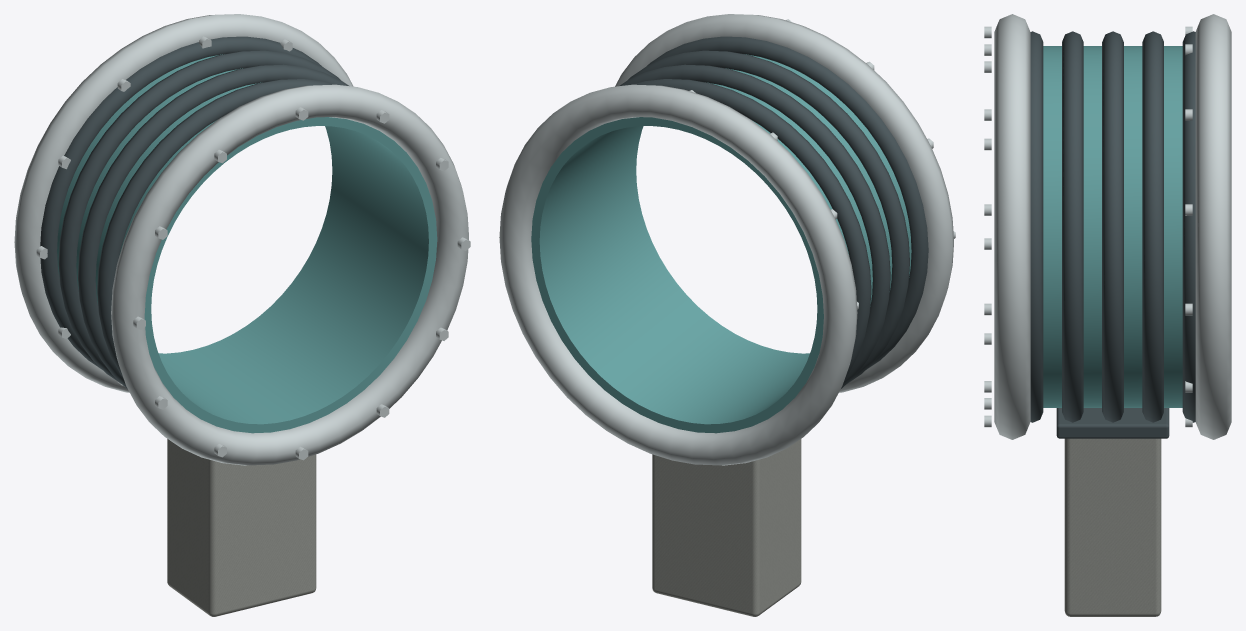
The model's file is hydroelectric-dam-infiltration-expansion-joint-af389c30__29343.glb.
3 views of the same model, side by side, from view 1: azimuth 30°, elevation 25°; view 2: azimuth 150°, elevation 25°; view 3: azimuth 270°, elevation 25° (orthographic). The views are drawn at different scales.
Parts seen in each view (by area): view 1: expansion-joint; view 2: expansion-joint; view 3: expansion-joint.
Boxes of the visible parts, <box> form: expansion-joint: <box>14,14,470,616</box>; expansion-joint: <box>499,14,955,616</box>; expansion-joint: <box>984,14,1231,616</box>.
Bounding box in the file's own units: 1.06 × 1.53 × 0.615.
Materials: 4 (1 with a texture image).
